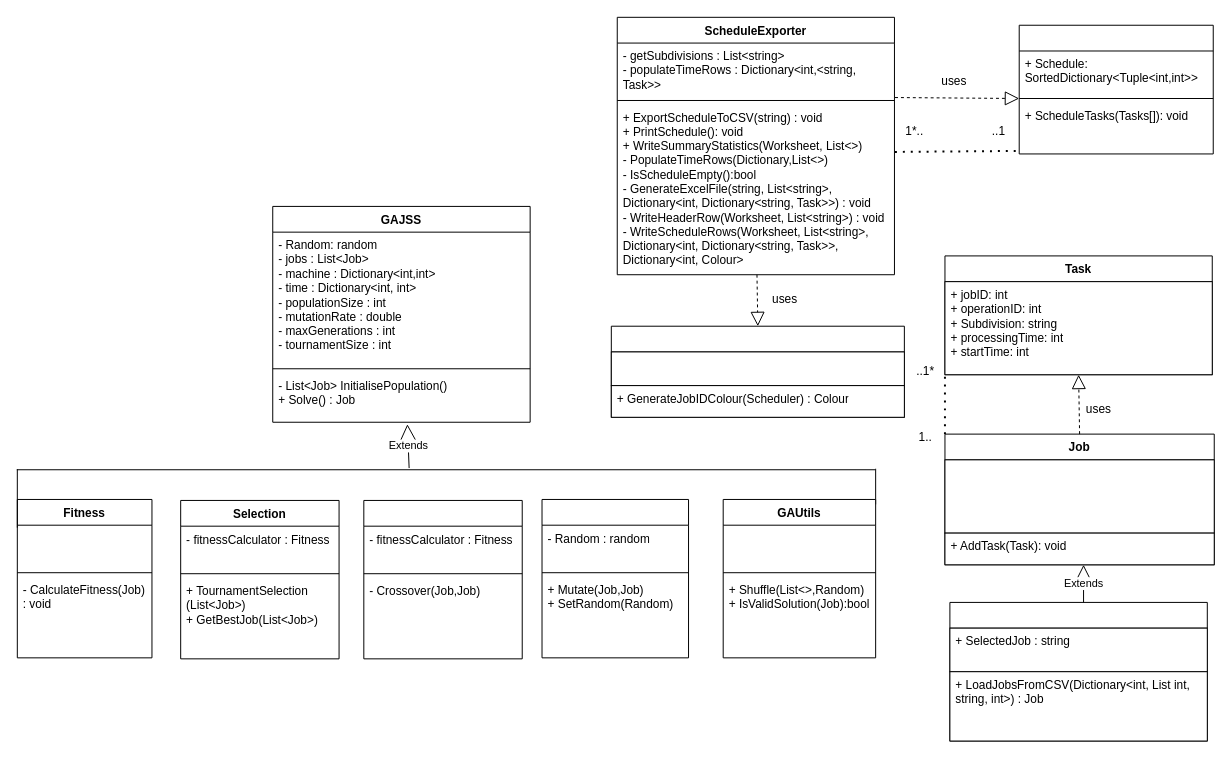
This 1232x761 diagram has some shape labels left out. The box of each missing label's shape, as (x1, y1, x2, y2) in pixels:
+ jobID: int + List<Task> Tasks + Fitness: int - Stack<Task> JobStack: (944, 459, 1214, 533)
Combine: (363, 499, 522, 659)
GenerateJobColour: (610, 325, 904, 417)
JobLoader: (949, 601, 1207, 741)
MutateChild: (541, 498, 689, 658)
Scheduler: (1018, 24, 1213, 154)
